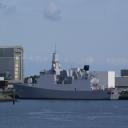Fragata: (13, 46, 124, 103)
